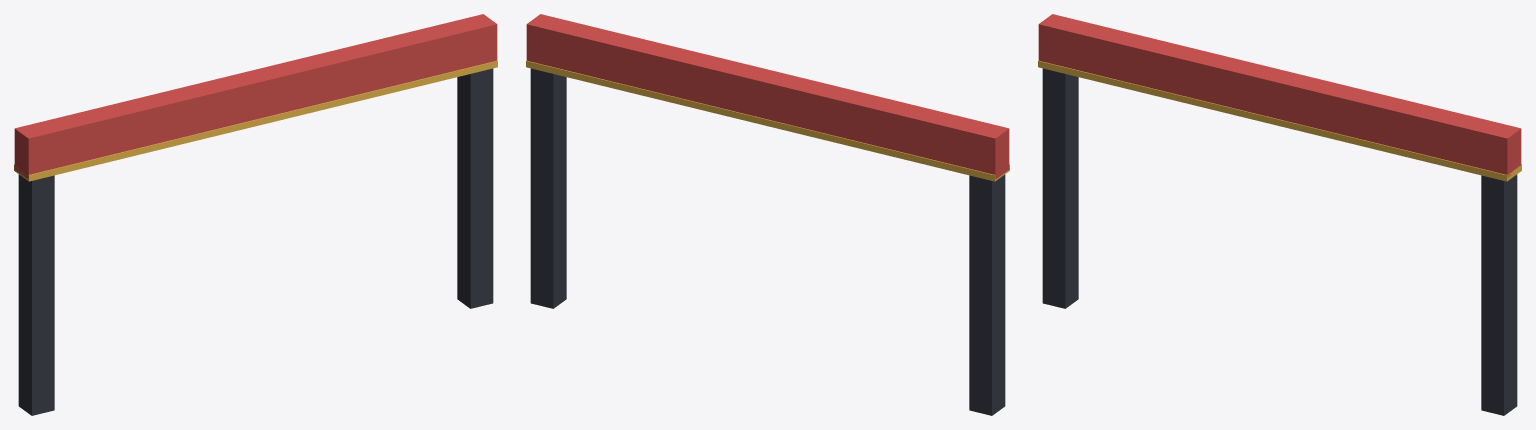
File: mdl_cartel_salida.fbx
The picture shows the model from 3 angles, left to right: view 1: azimuth 30°, elevation 25°; view 2: azimuth 150°, elevation 25°; view 3: azimuth 330°, elevation 25°; orthographic projection.
Parts seen in each view (by area): view 1: mdl_cartel_salida; view 2: mdl_cartel_salida; view 3: mdl_cartel_salida.
Boxes of the visible parts, left/top/right/bottom form: mdl_cartel_salida: left=14, top=14, right=497, bottom=415; mdl_cartel_salida: left=526, top=14, right=1009, bottom=415; mdl_cartel_salida: left=1038, top=14, right=1521, bottom=415.
Size of the model in its own units: 3100 by 1760 by 170.
